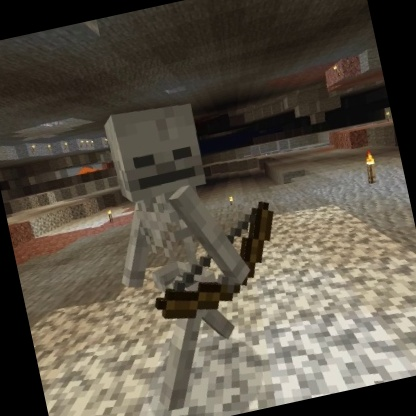skeleton: (82, 80, 313, 416)
